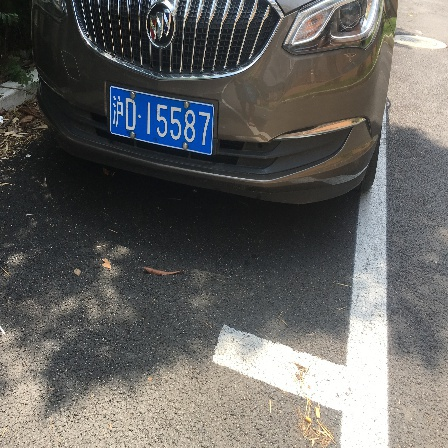plate: (107, 79, 223, 160)
